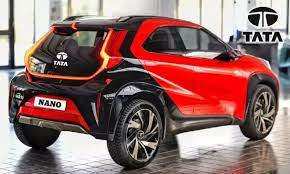Nano: (7, 12, 278, 167)
